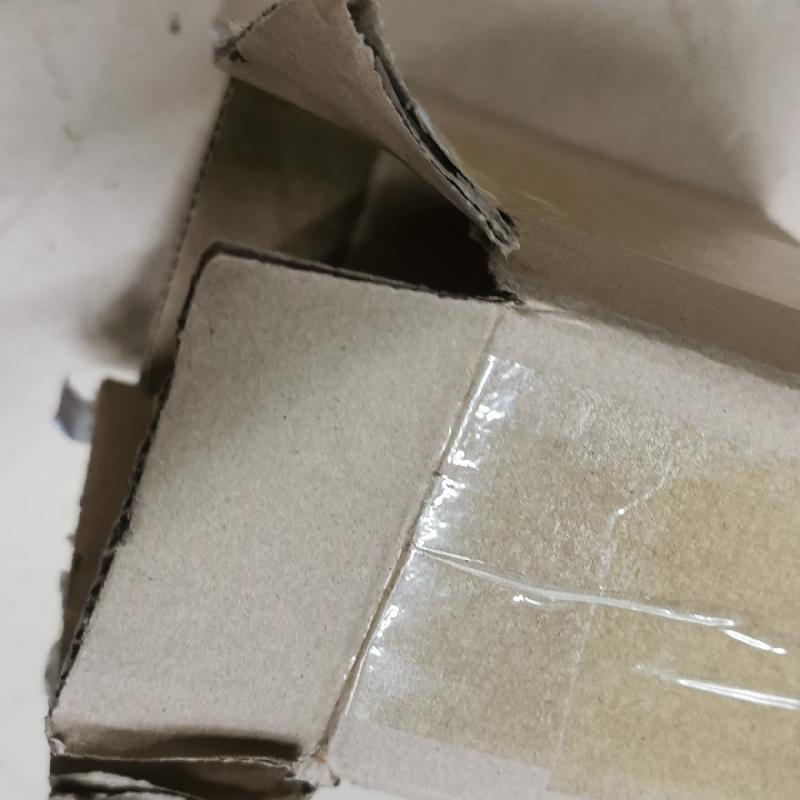boxes: (40, 5, 800, 799)
